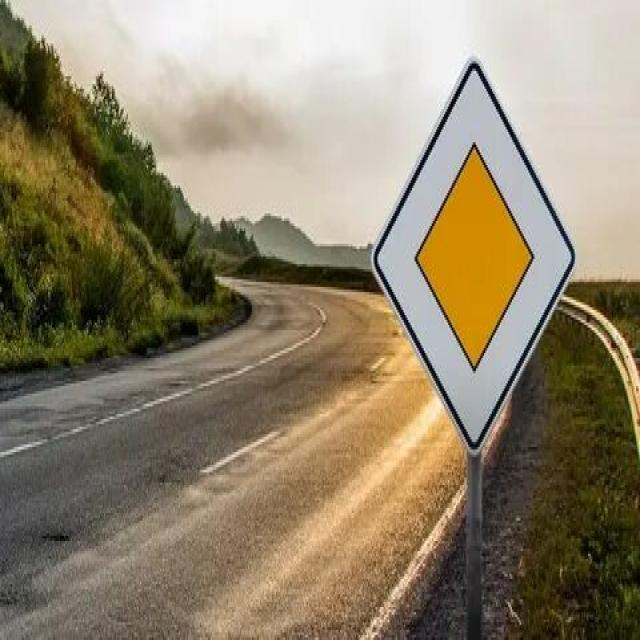signs: (371, 50, 578, 461)
